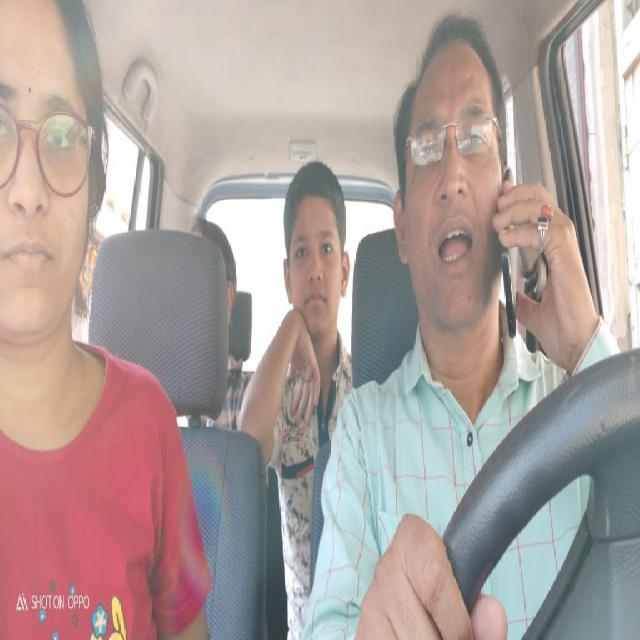mobile: (499, 156, 524, 353)
person: (392, 8, 522, 368), (1, 0, 110, 373), (283, 165, 354, 373), (192, 217, 242, 351)
